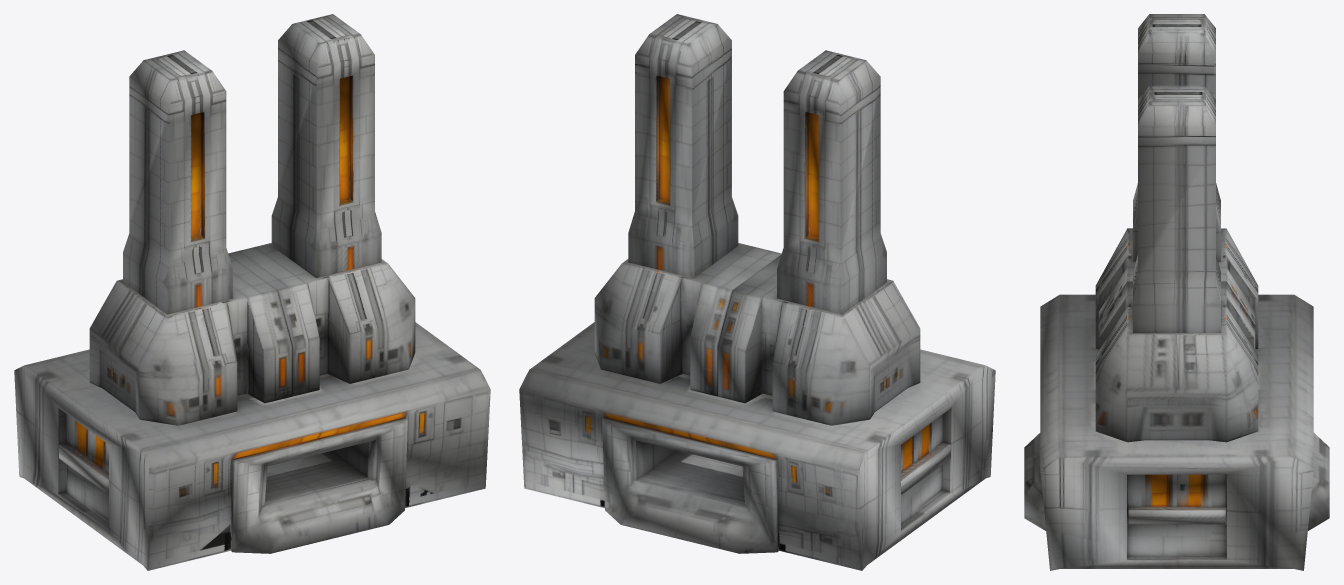
File: bldg_industry_stacks.glb
3 views of the same model, side by side, from view 1: azimuth 30°, elevation 25°; view 2: azimuth 150°, elevation 25°; view 3: azimuth 270°, elevation 25° (orthographic).
Bounding box in the file's own units: 1.62 × 2 × 1.29.
1 material, 1 textured.
